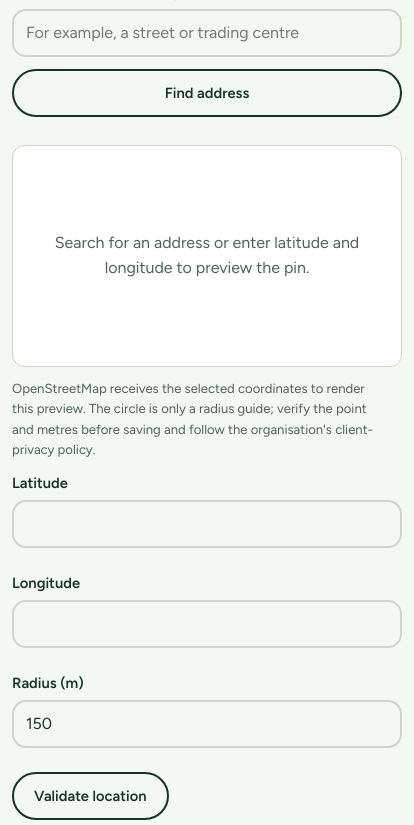
it: MapPicker location validation › only geocodes after an explicit user action and returns rounded coordinates
Type "Kampala" into the search field labelled "Search address or nearby landmark" at (207,33), box 12,9 -> 402,57
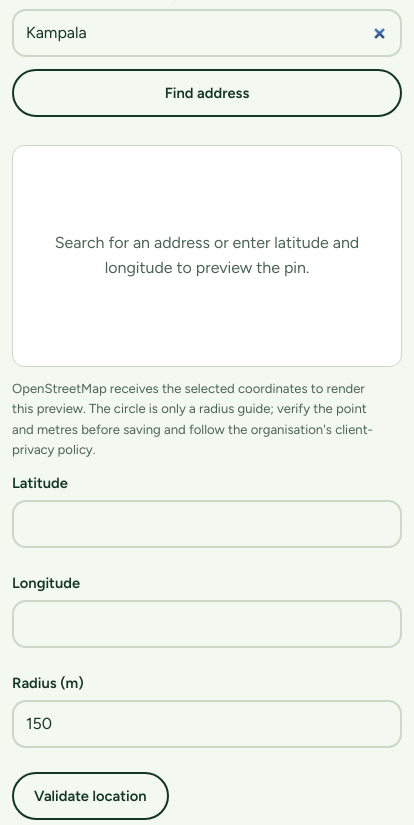
Click the button "Find address" at (207,93), box 12,69 -> 402,117
(page scrolled)
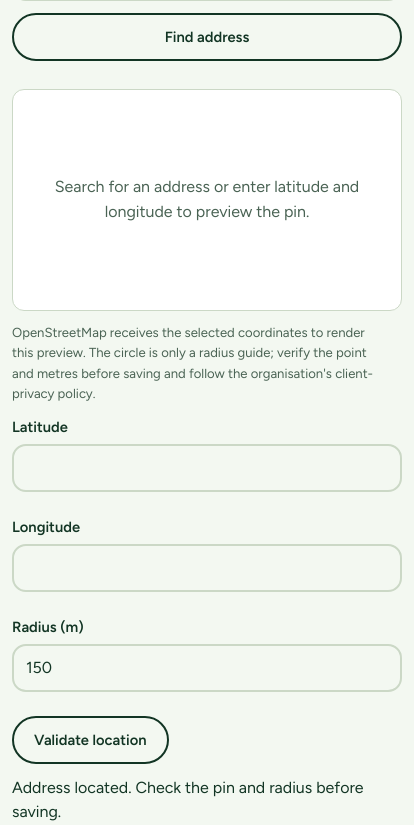
Expected: the message reads "Address located. Check the pin and radius before saving.", 12,778 -> 364,821
